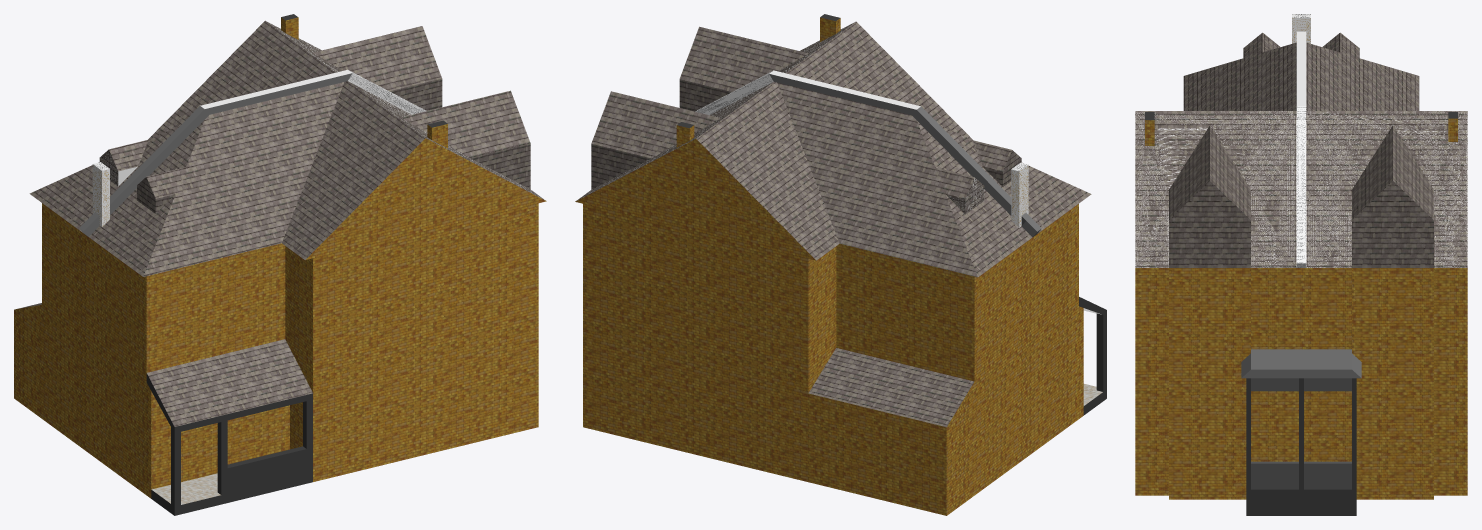
The model's file is AugustaAndJohn.dae.
3 renders of one model, left to right at view 1: azimuth 30°, elevation 25°; view 2: azimuth 150°, elevation 25°; view 3: azimuth 270°, elevation 25°, orthographic. The views are drawn at different scales.
Parts seen in each view (by area): view 1: SketchUp (×8); view 2: SketchUp (×7); view 3: SketchUp (×10).
Part boxes in pixels (x1=…): SketchUp (×8): x1=14, y1=20, x2=546, y2=515; SketchUp (×7): x1=575, y1=21, x2=1106, y2=515; SketchUp (×10): x1=1135, y1=31, x2=1467, y2=515.
Bounding box in the file's own units: 621 × 414 × 460.
Materials: 13 (3 with a texture image).
